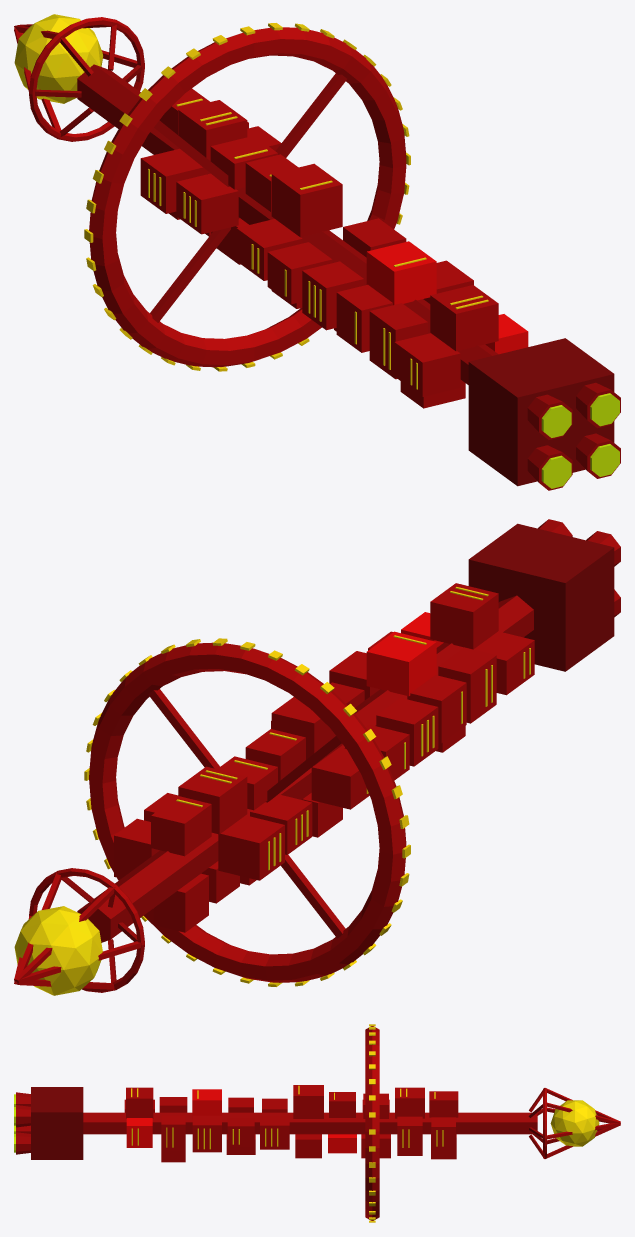
Rendered from lantern.glb.
The picture shows the model from 3 angles, top to bottom: view 1: azimuth 30°, elevation 25°; view 2: azimuth 150°, elevation 25°; view 3: azimuth 270°, elevation 25°; orthographic projection. The views are drawn at different scales.
Visible parts, largest first — view 1: lantern; view 2: lantern; view 3: lantern.
Part boxes in pixels (bbox=[...]): lantern: bbox=[14, 14, 620, 490]; lantern: bbox=[14, 519, 620, 995]; lantern: bbox=[14, 1024, 620, 1222].
Bounding box in the file's own units: 52.9 × 52.9 × 162.
